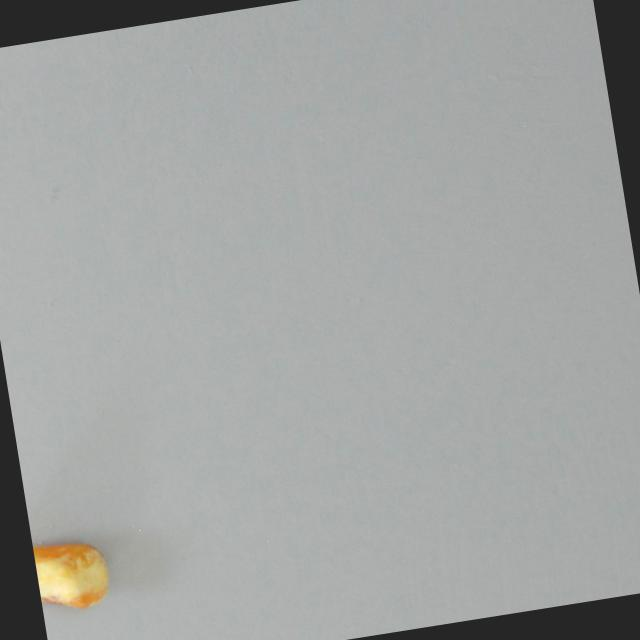dañado: (30, 525, 113, 621)
